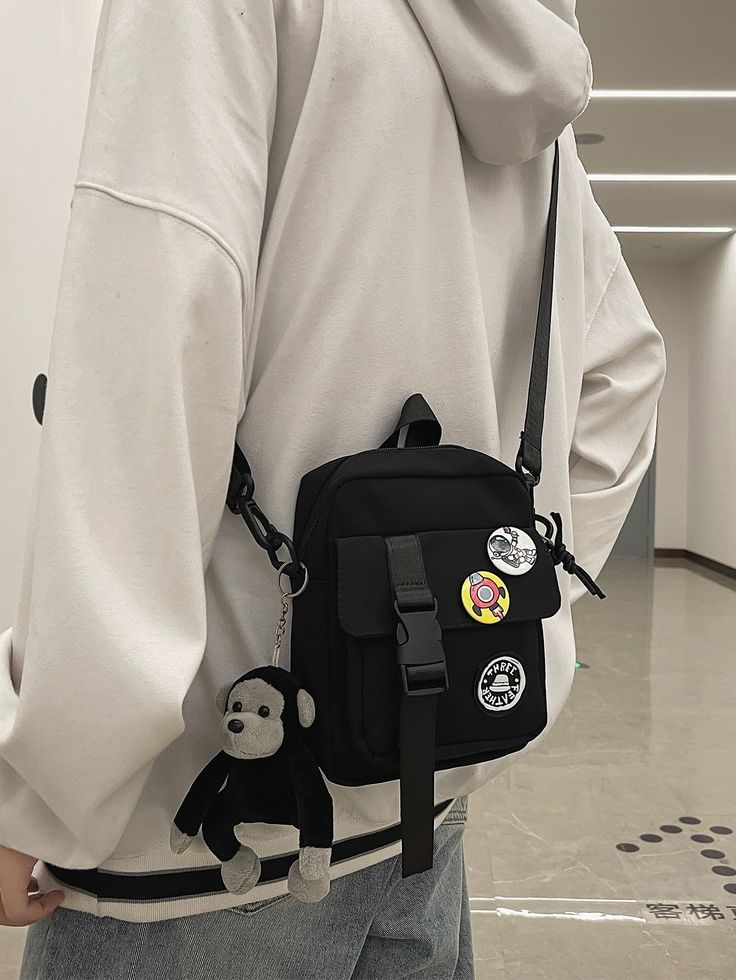nylon: (288, 395, 562, 873)
